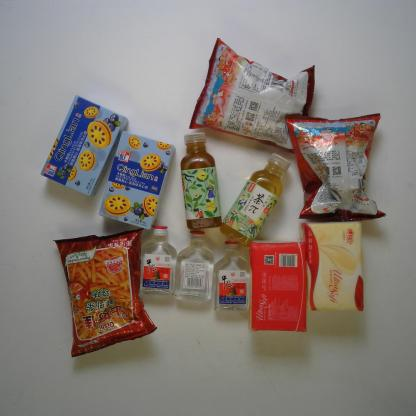Alcohol: (172, 225, 216, 303), (136, 220, 180, 298), (213, 237, 253, 316)
Dessert: (38, 93, 130, 200), (94, 128, 177, 232)
Drink: (220, 151, 292, 249), (179, 127, 225, 232)
Puffed Food: (188, 35, 318, 156), (52, 228, 159, 358), (283, 108, 393, 224)
Tissue: (298, 219, 368, 315), (246, 238, 311, 335)
